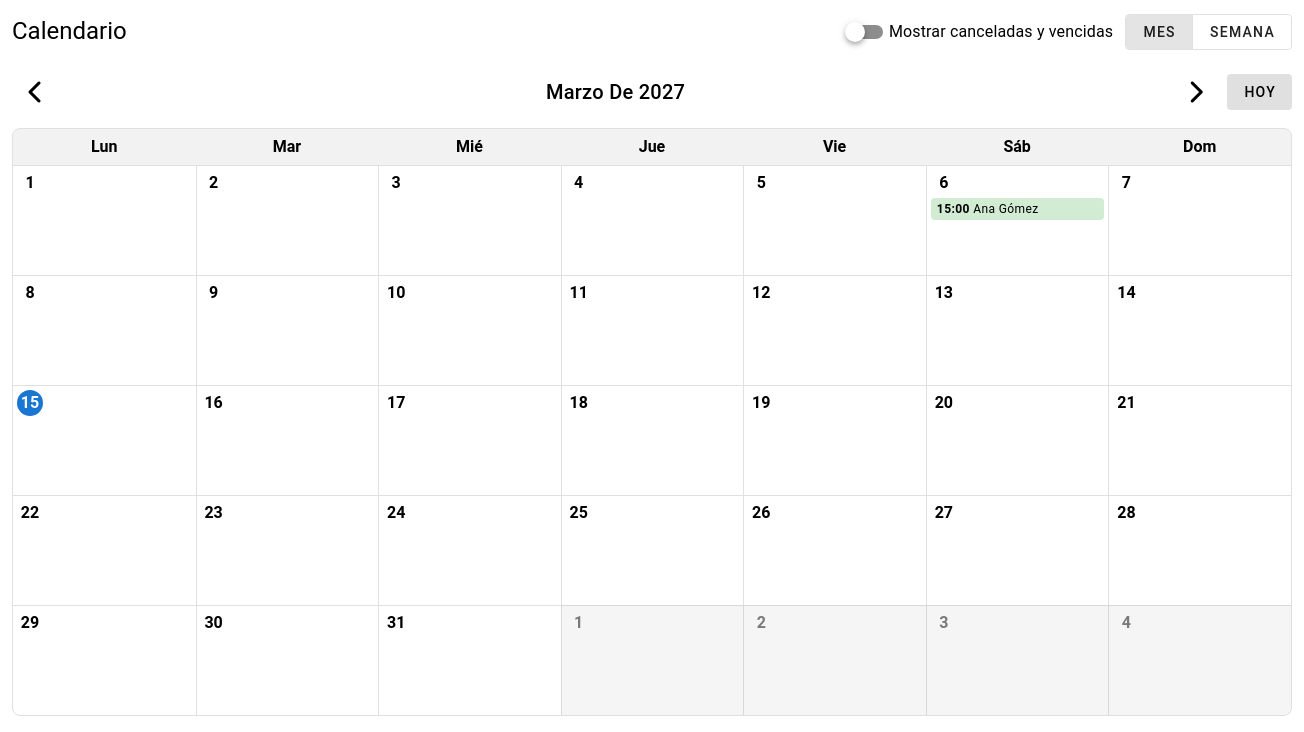
Test case: CalendarioView › navega entre meses y vuelve a pedir los datos del mes nuevo
Click the button named "Mes siguiente" at (1195, 92), box 1171,68 -> 1219,116
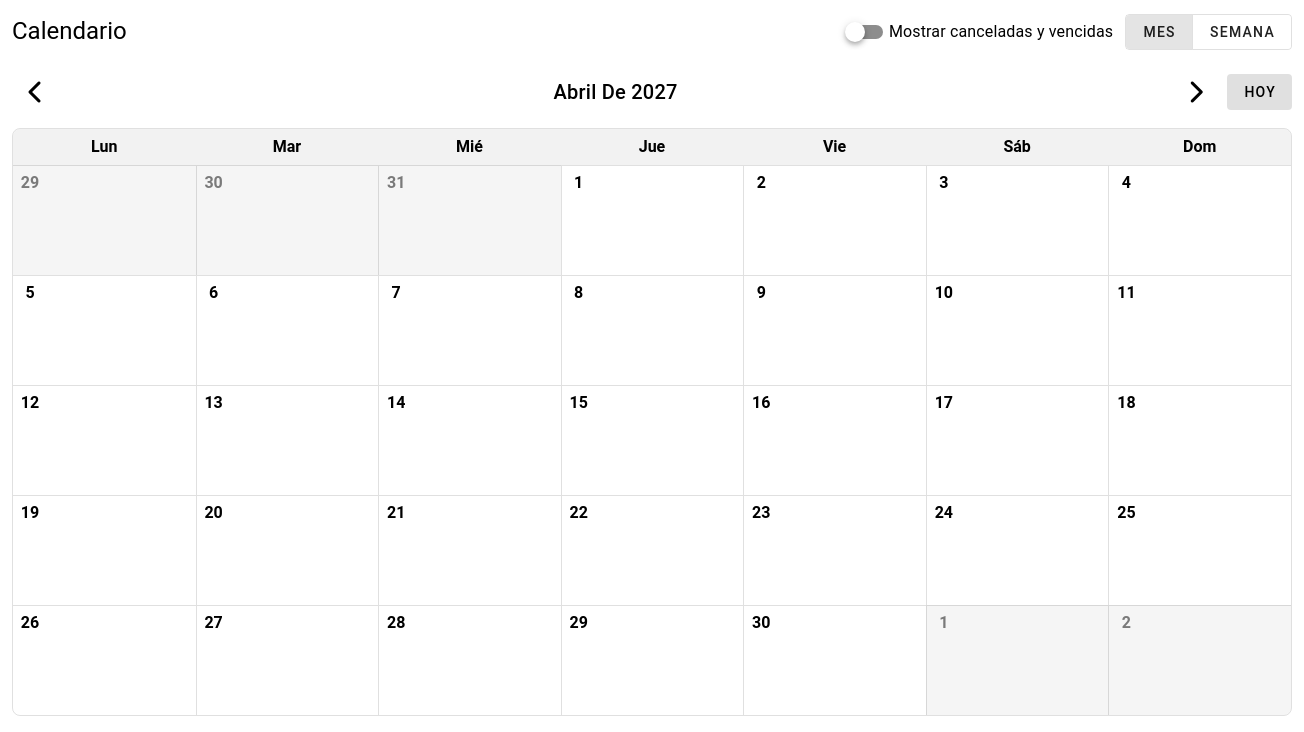
Result: the heading with test id "titulo-mes" reads "abril de 2027" at 553,80 -> 678,104
Click the button named "Mes anterior" at (36, 92), box 12,68 -> 60,116
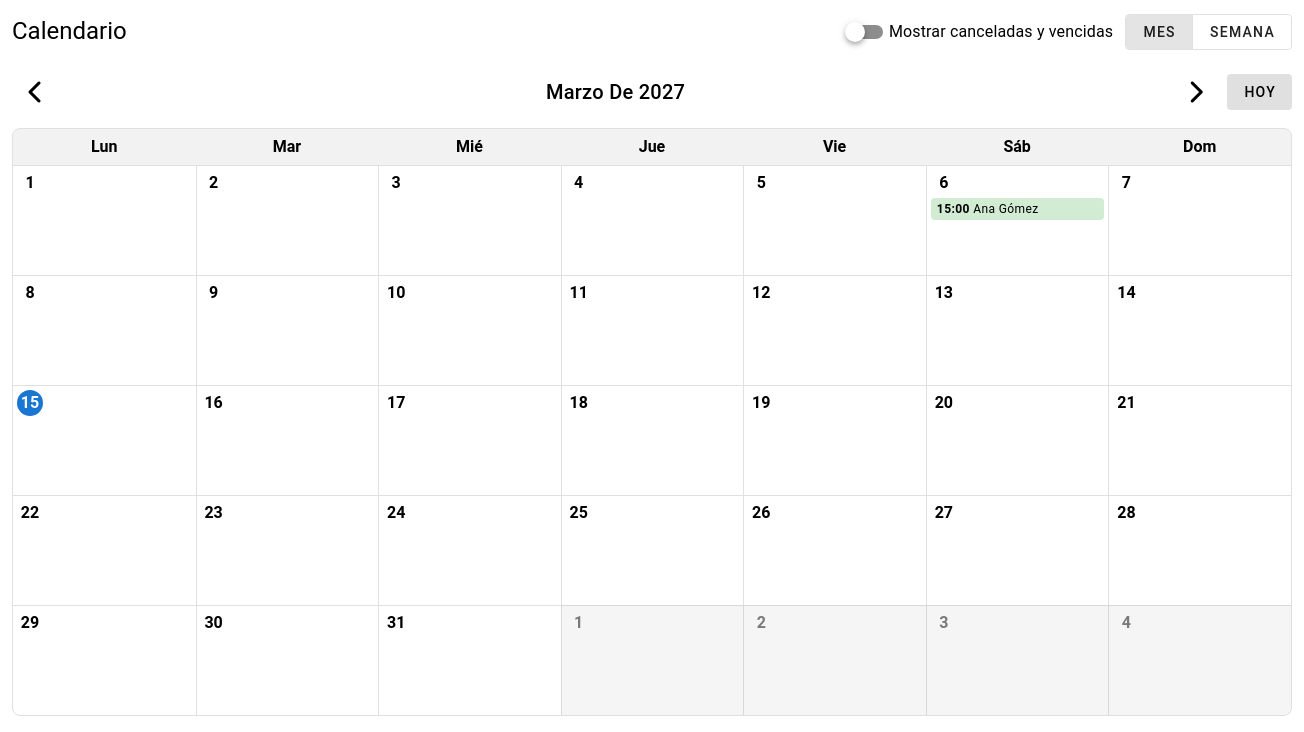
Click the button named "Mes anterior" at (36, 92), box 12,68 -> 60,116
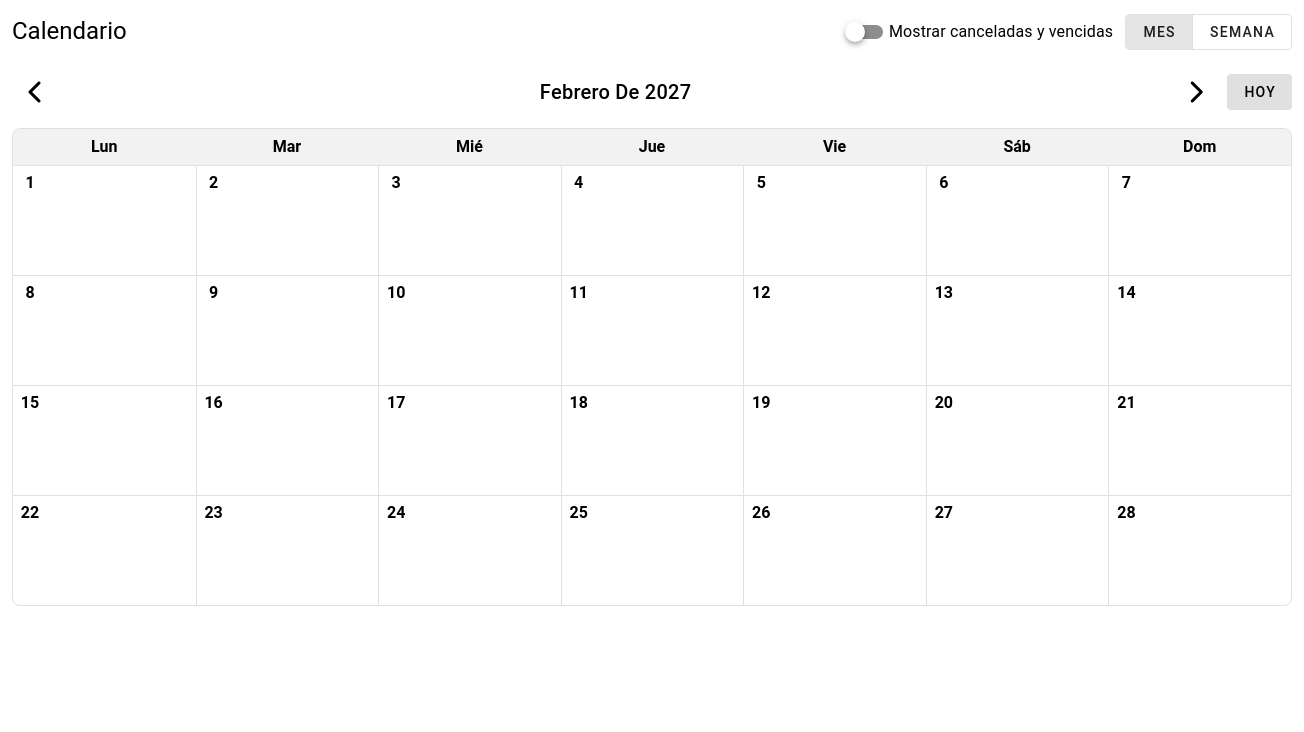
Result: the heading with test id "titulo-mes" reads "febrero de 2027" at 540,80 -> 691,104
Click the button "Hoy" at (1260, 92), box 1227,74 -> 1292,110
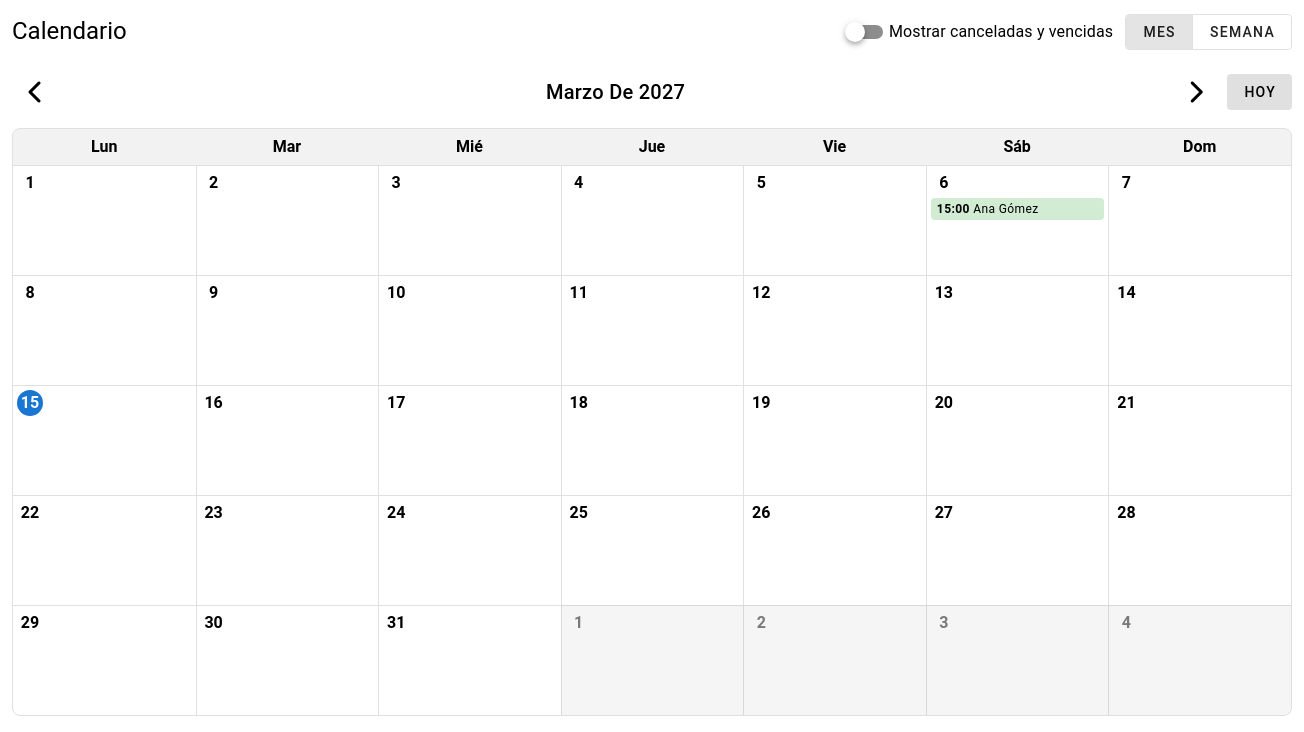
Result: the heading with test id "titulo-mes" reads "marzo de 2027" at 546,80 -> 685,104
